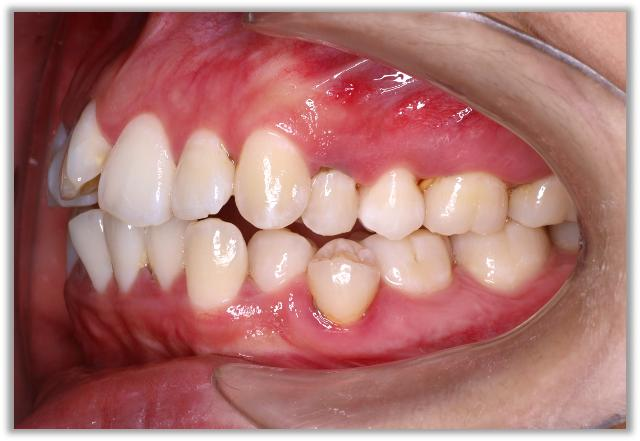canine class III 1/2: (178, 121, 316, 319)
molar class III full class: (362, 163, 512, 309)
